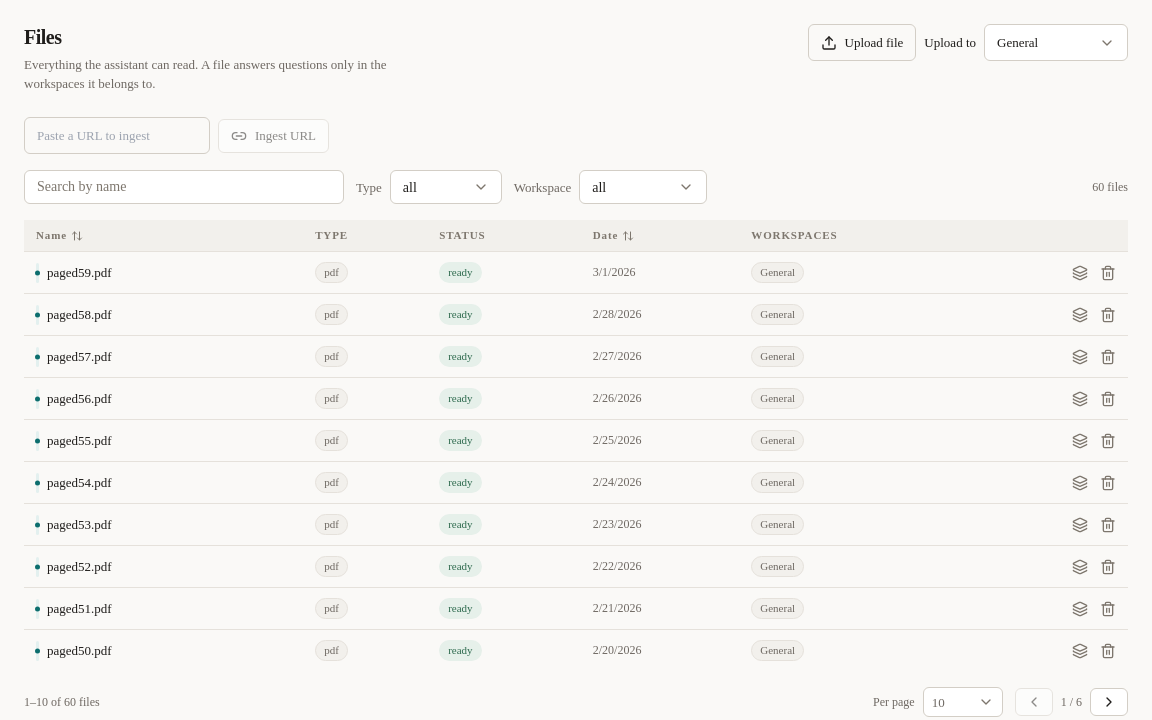
Test case: FilesManager › pagination › returns to the first page when the page size grows
Step 1. Click the button named "Next page" → (1109, 702), box [1090,688,1128,716]
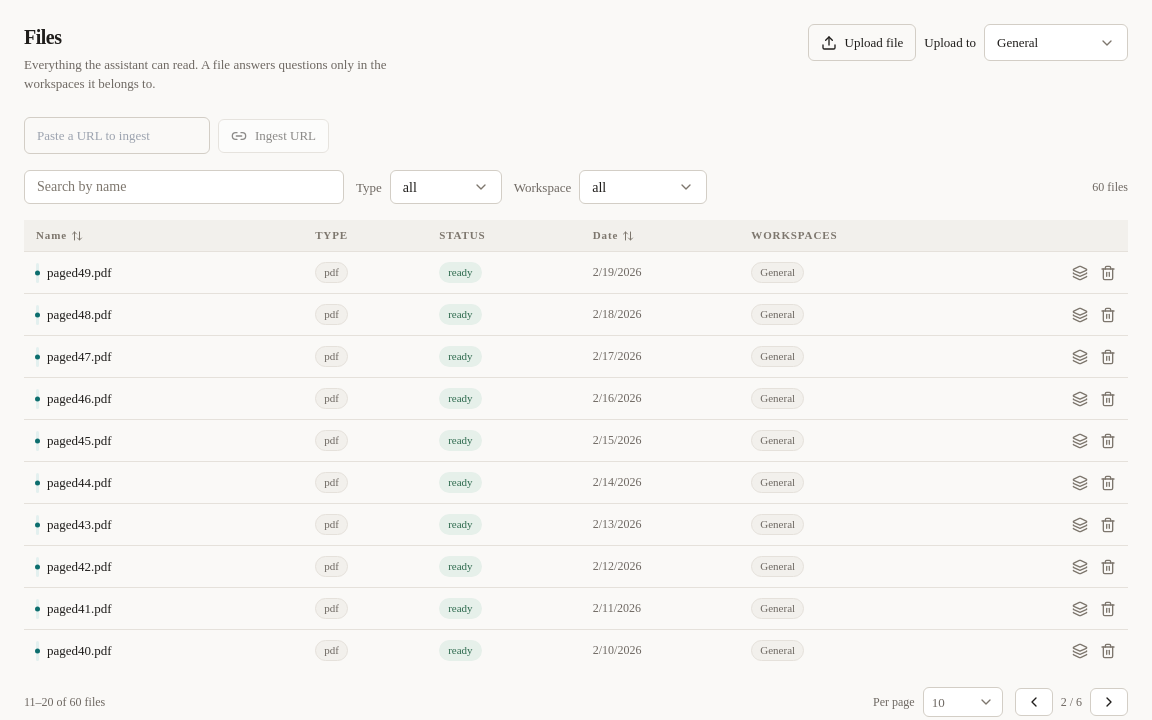
Expected: the text "paged49.pdf" is shown, [47,263,112,282]
Step 2. Click the button named "Rows per page" → (963, 702), box [923,687,1003,717]
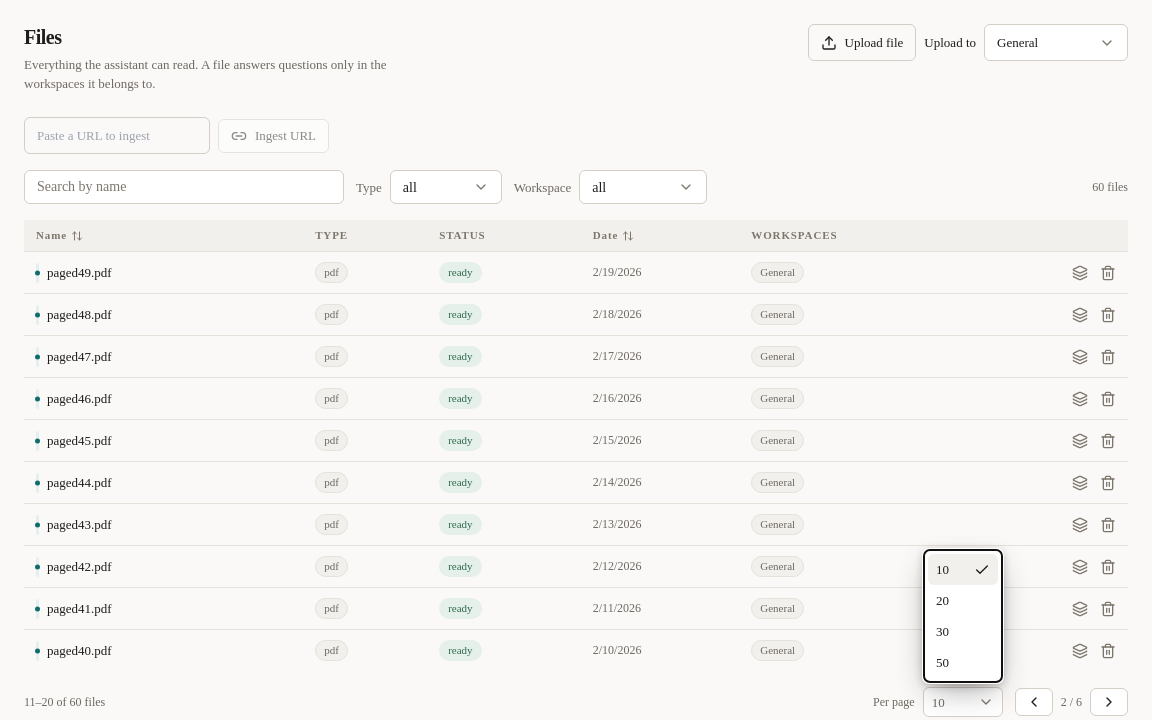
Step 3. Click the option "50" → (942, 662), box [936,655,949,670]
(page scrolled)
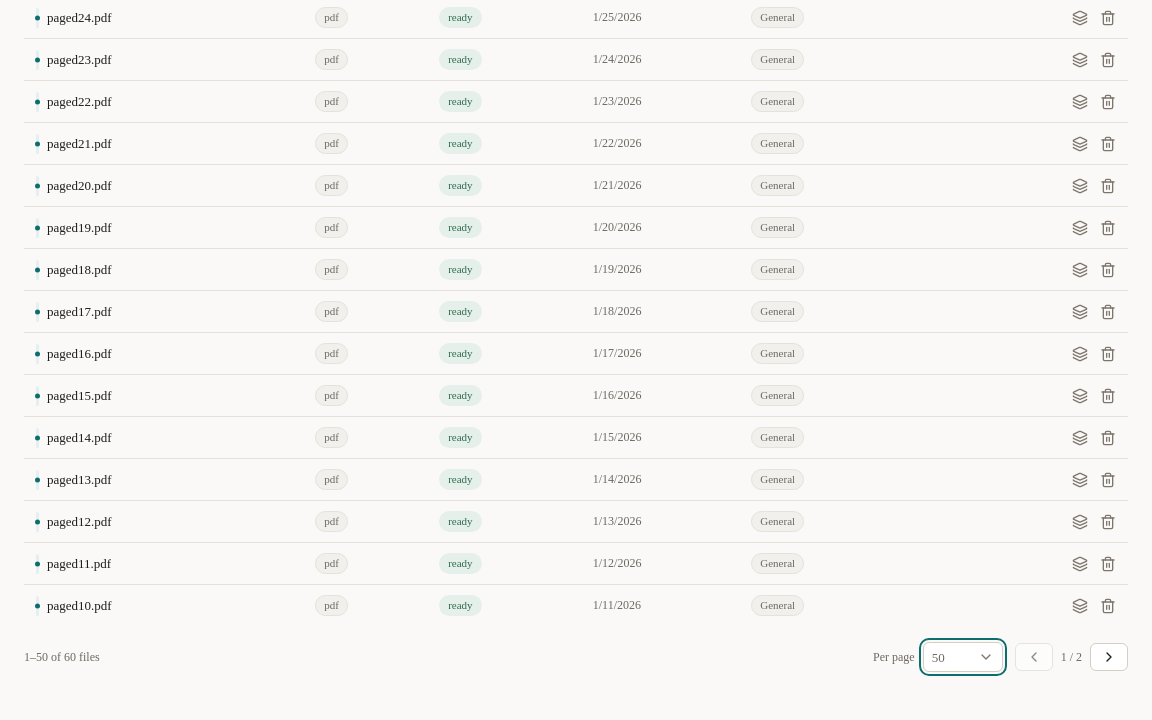
Expected: the text "1–50 of 60 files" is shown, [24,648,100,666]
